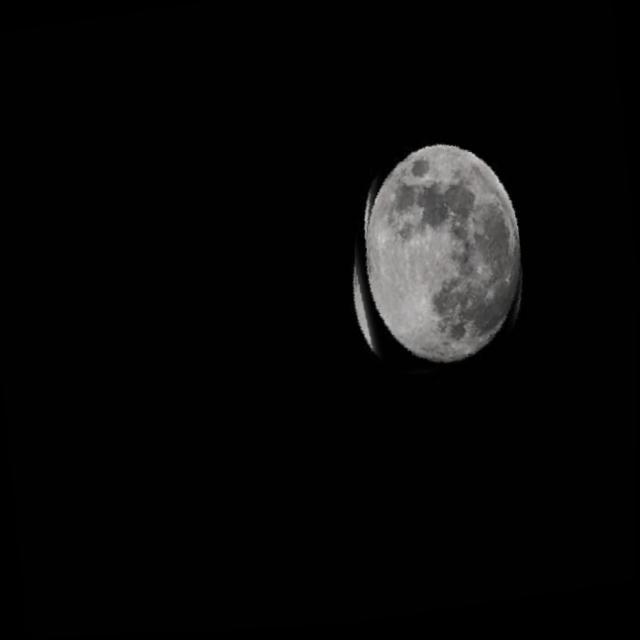moon: (328, 128, 534, 400)
